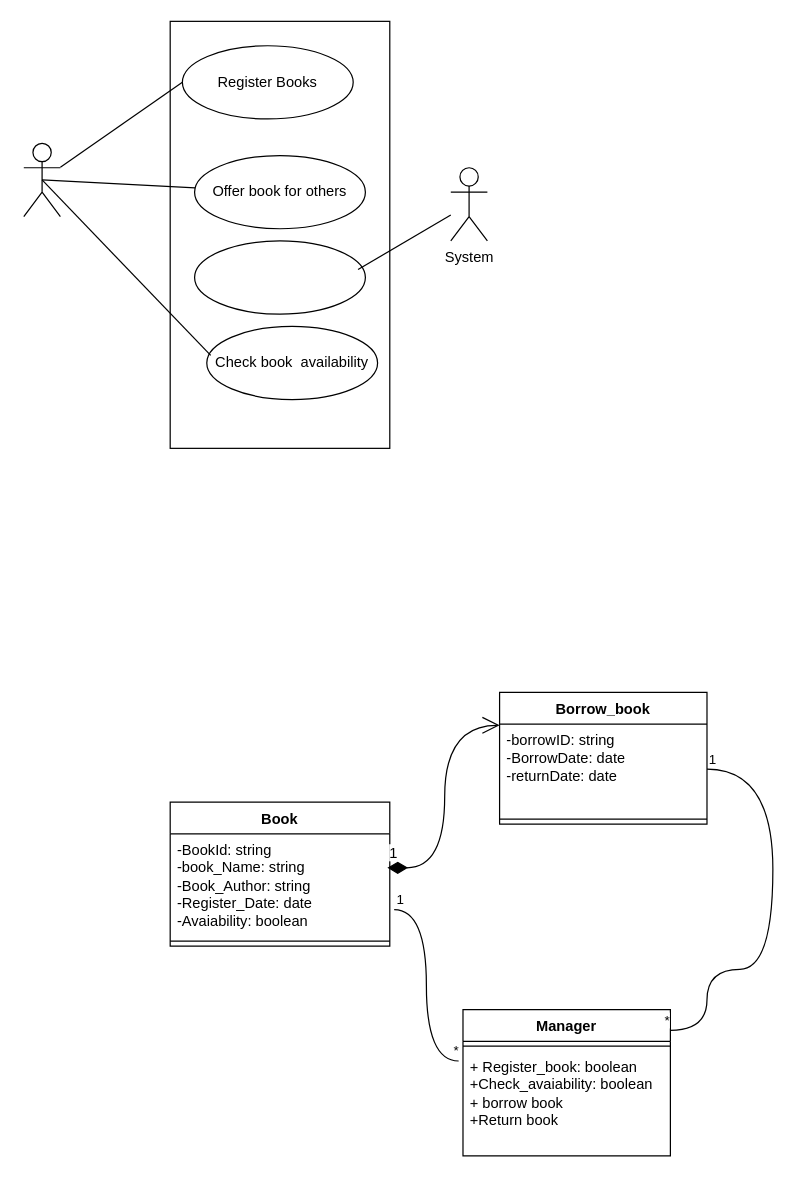
This 794x1181 diagram has some shape labels left out. Each missing label, with the centre of its shape:
Notify borrowing time period: the point at 279,277
Owner: the point at 41,179
